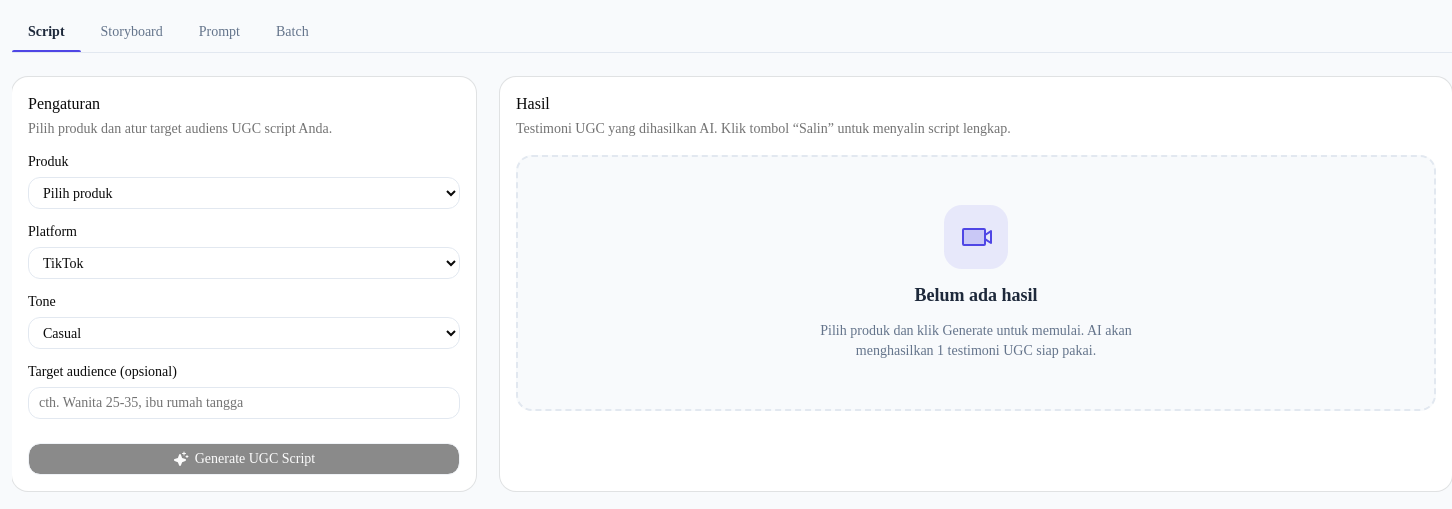
Test: UgcGenerator › shows loading state in the result panel while a generation is in flight
Select "Sample Product A" in the dropdown labelled "Produk" at (244, 193), box [28, 177, 460, 209]
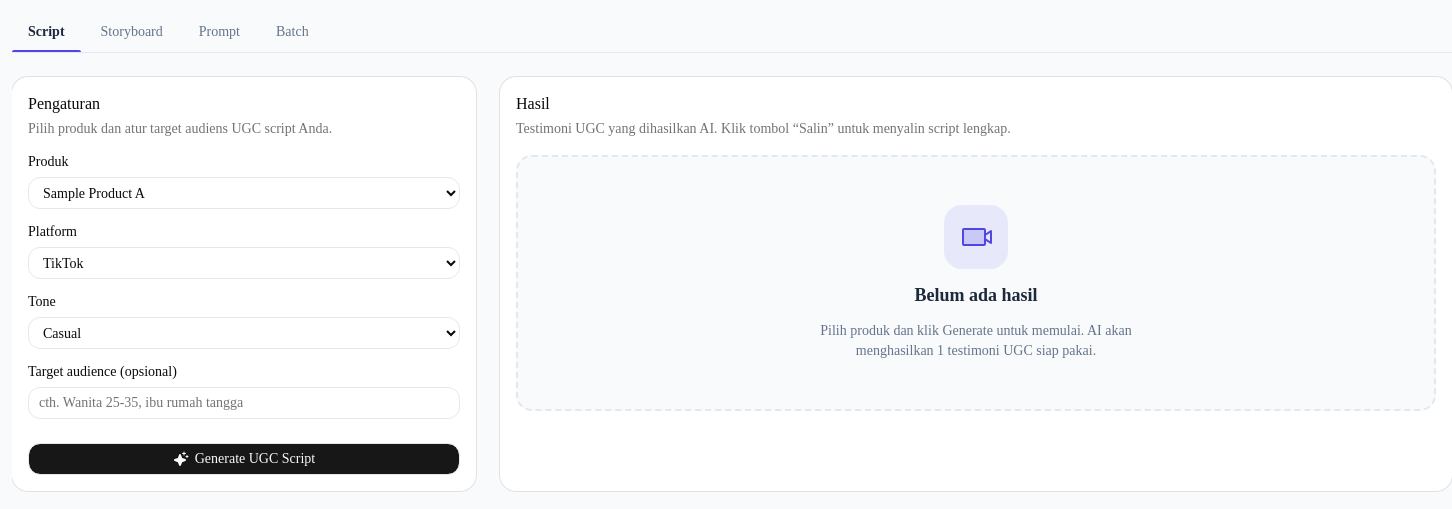
Click the button "Generate UGC Script".
click(244, 459)  # box [28, 443, 460, 475]
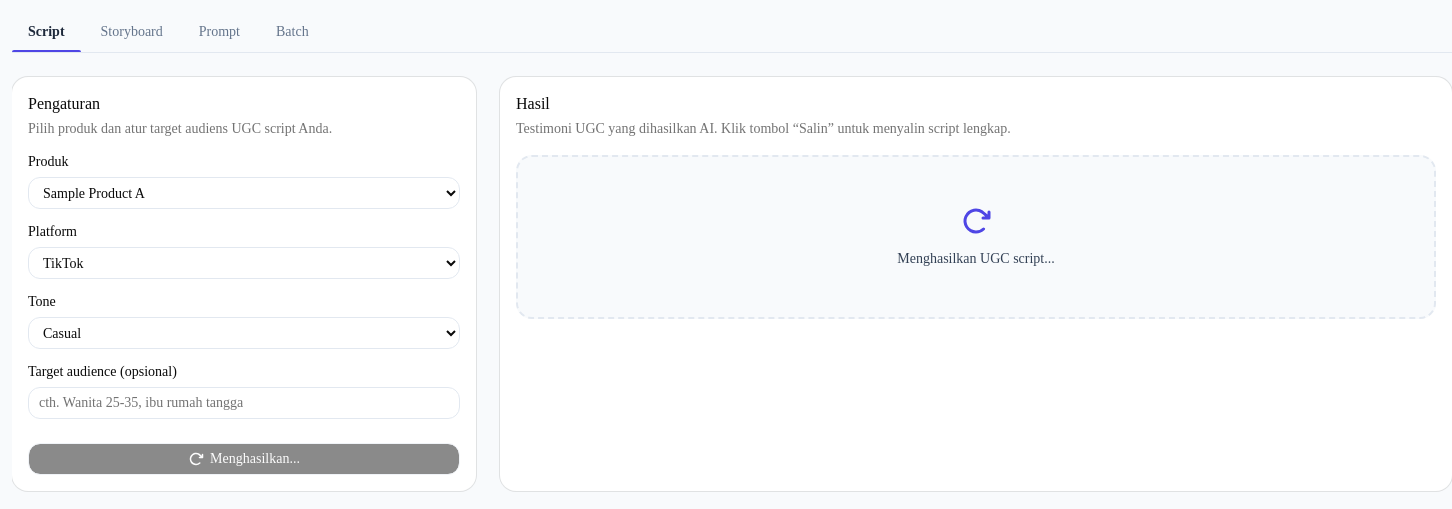
Expected: the element with test id "ugc-script-loading" is shown, [516, 155, 1436, 319]
